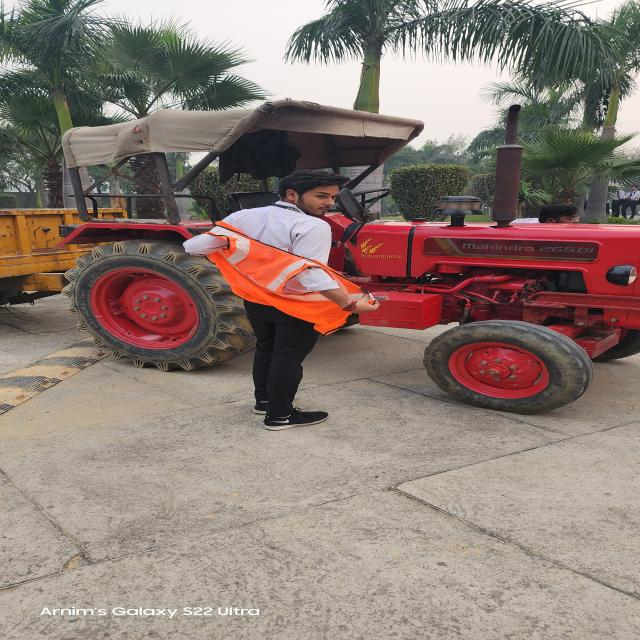unsafe: (180, 172, 359, 430)
